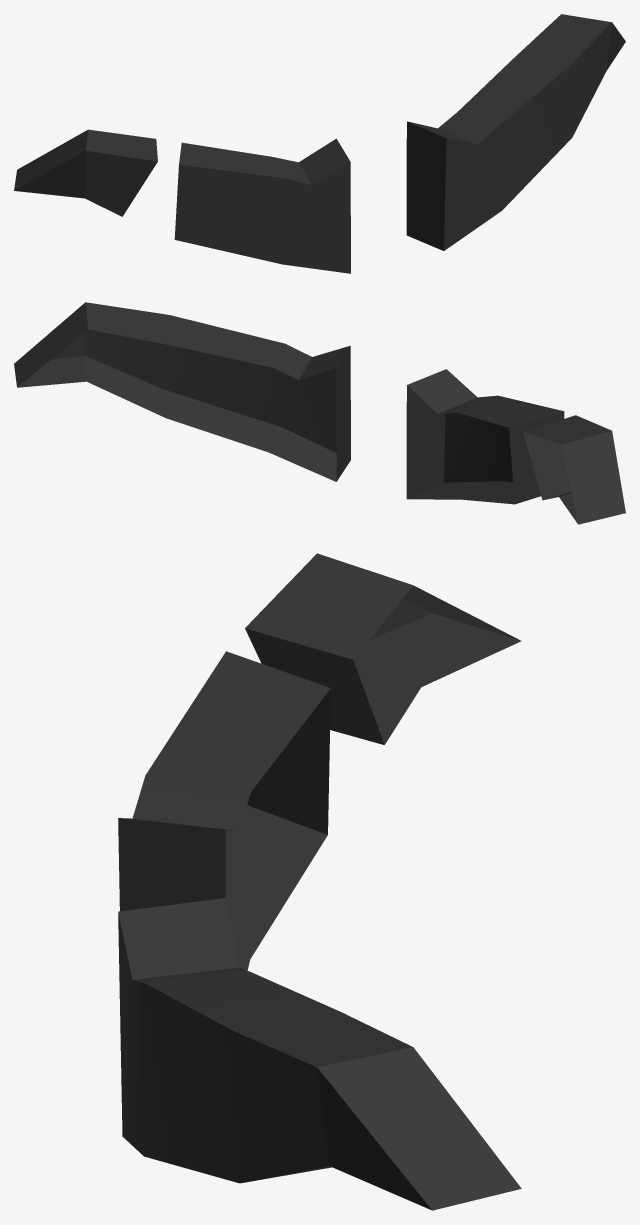
Rendered from Brow_Black_9.fbx.
3 views of the same model, one above another, from view 1: azimuth 30°, elevation 25°; view 2: azimuth 150°, elevation 25°; view 3: azimuth 270°, elevation 25° (orthographic). The views are drawn at different scales.
Visible parts, largest first — view 1: Brow_Black_9; view 2: Brow_Black_9; view 3: Brow_Black_9.
Part boxes in pixels (x1,y1,x2,y2): Brow_Black_9: (14, 14, 625, 273); Brow_Black_9: (14, 302, 625, 524); Brow_Black_9: (118, 553, 521, 1210).
Size of the model in its own units: 41.99 by 9.24 by 11.99.
